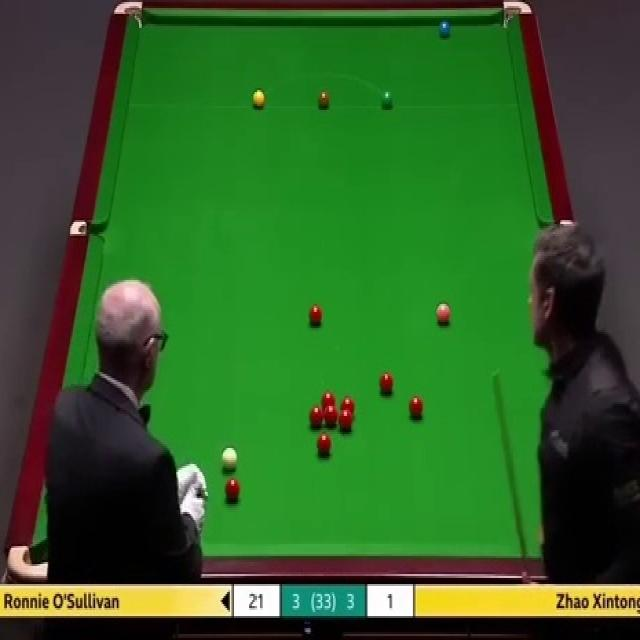pocket: (4, 545, 51, 580), (500, 0, 534, 32), (111, 0, 145, 29), (68, 221, 104, 237)
